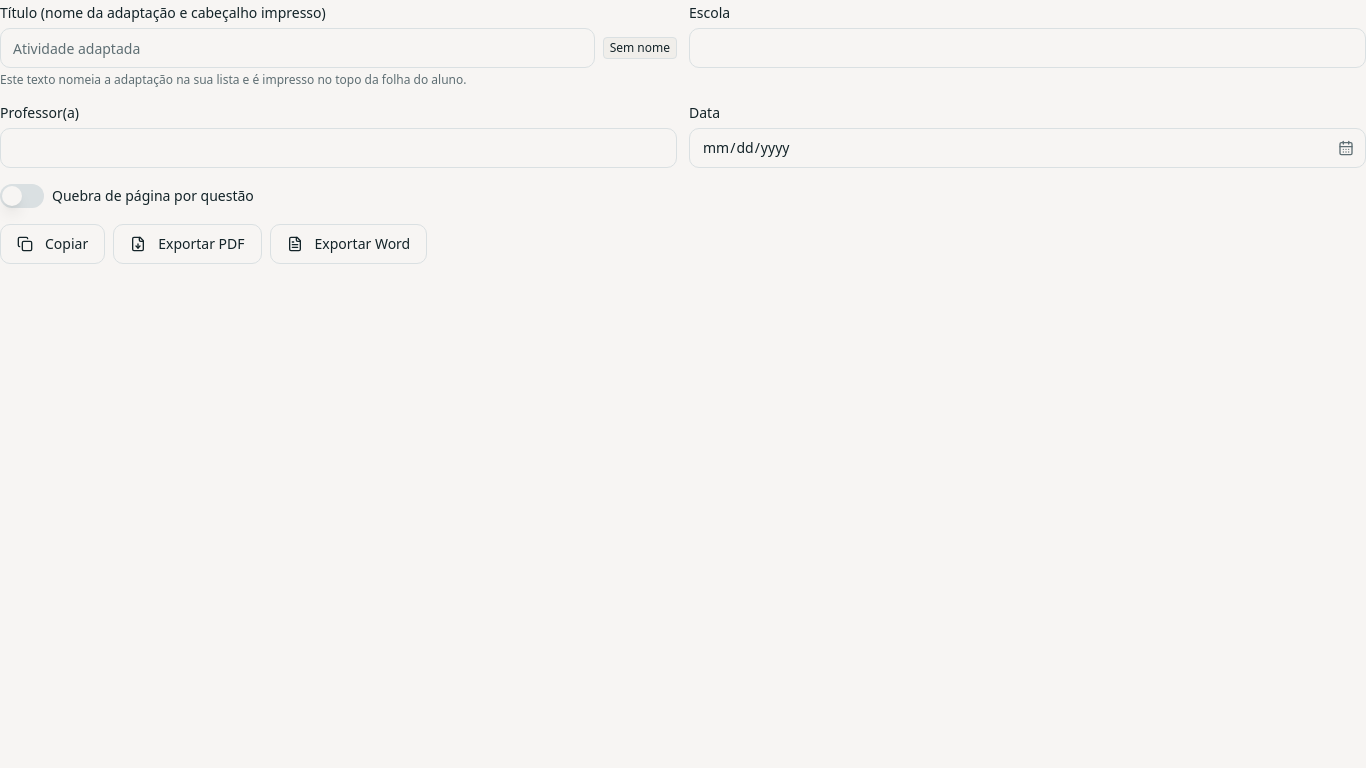
Test case: aviso antes do download do Word (B15) › avisa quando a fonte de acessibilidade pode não existir na máquina do leitor
What coordinates should you click on to do the following:
click the button "Exportar Word"
I would click on:
 (348, 244)
Its box is [270,224,427,264].
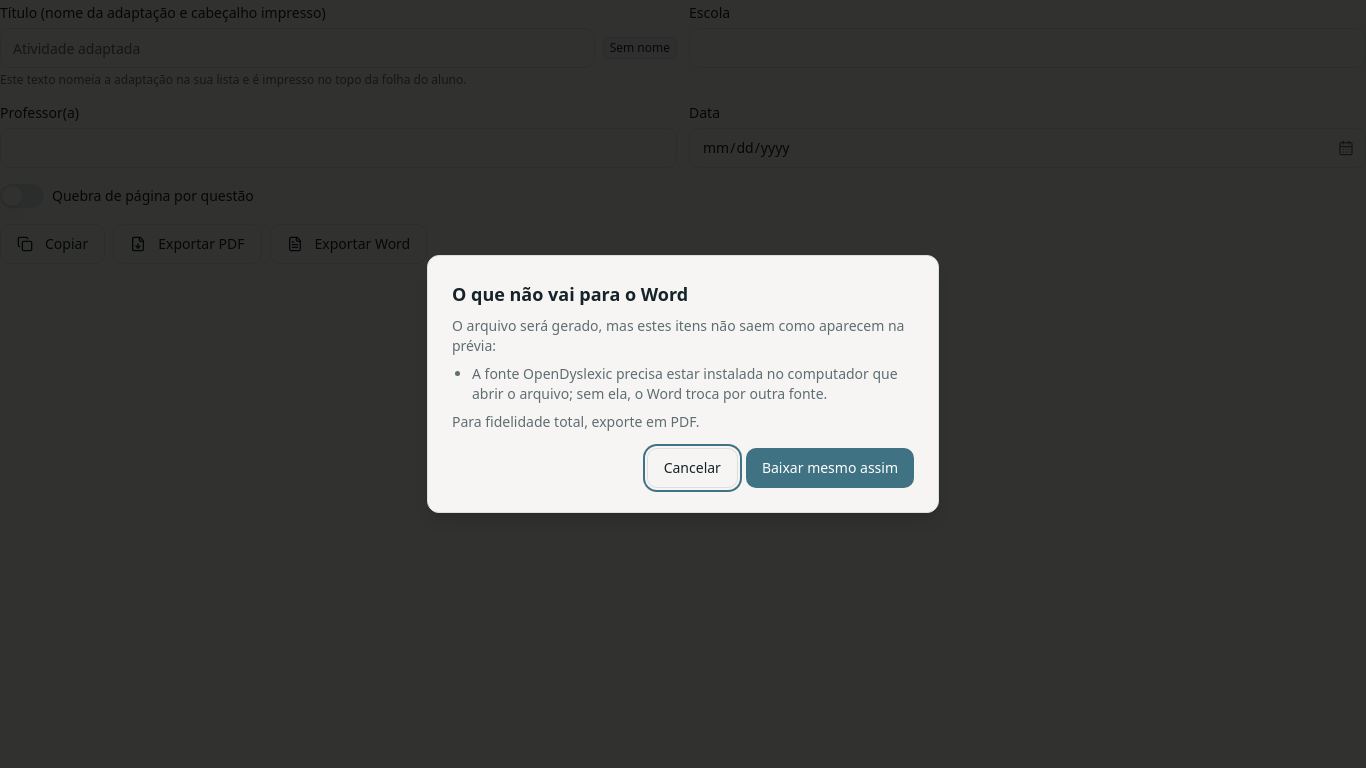
Result: the list item "OpenDyslexic" is shown at [472,364,898,403]
